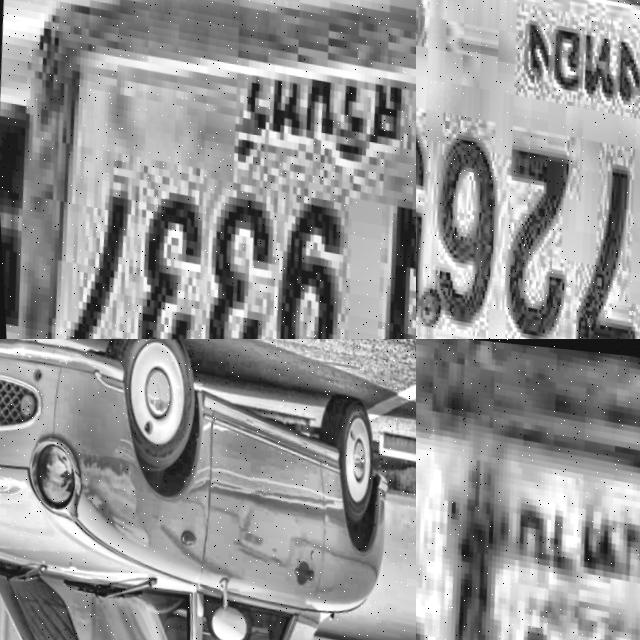license-plate: (0, 0, 416, 339), (416, 0, 640, 339), (416, 354, 640, 640)
